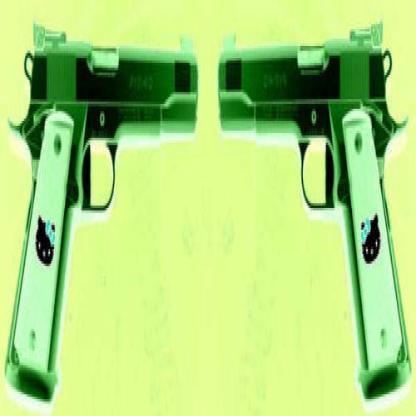handgun: (3, 12, 198, 402), (217, 15, 409, 394)
